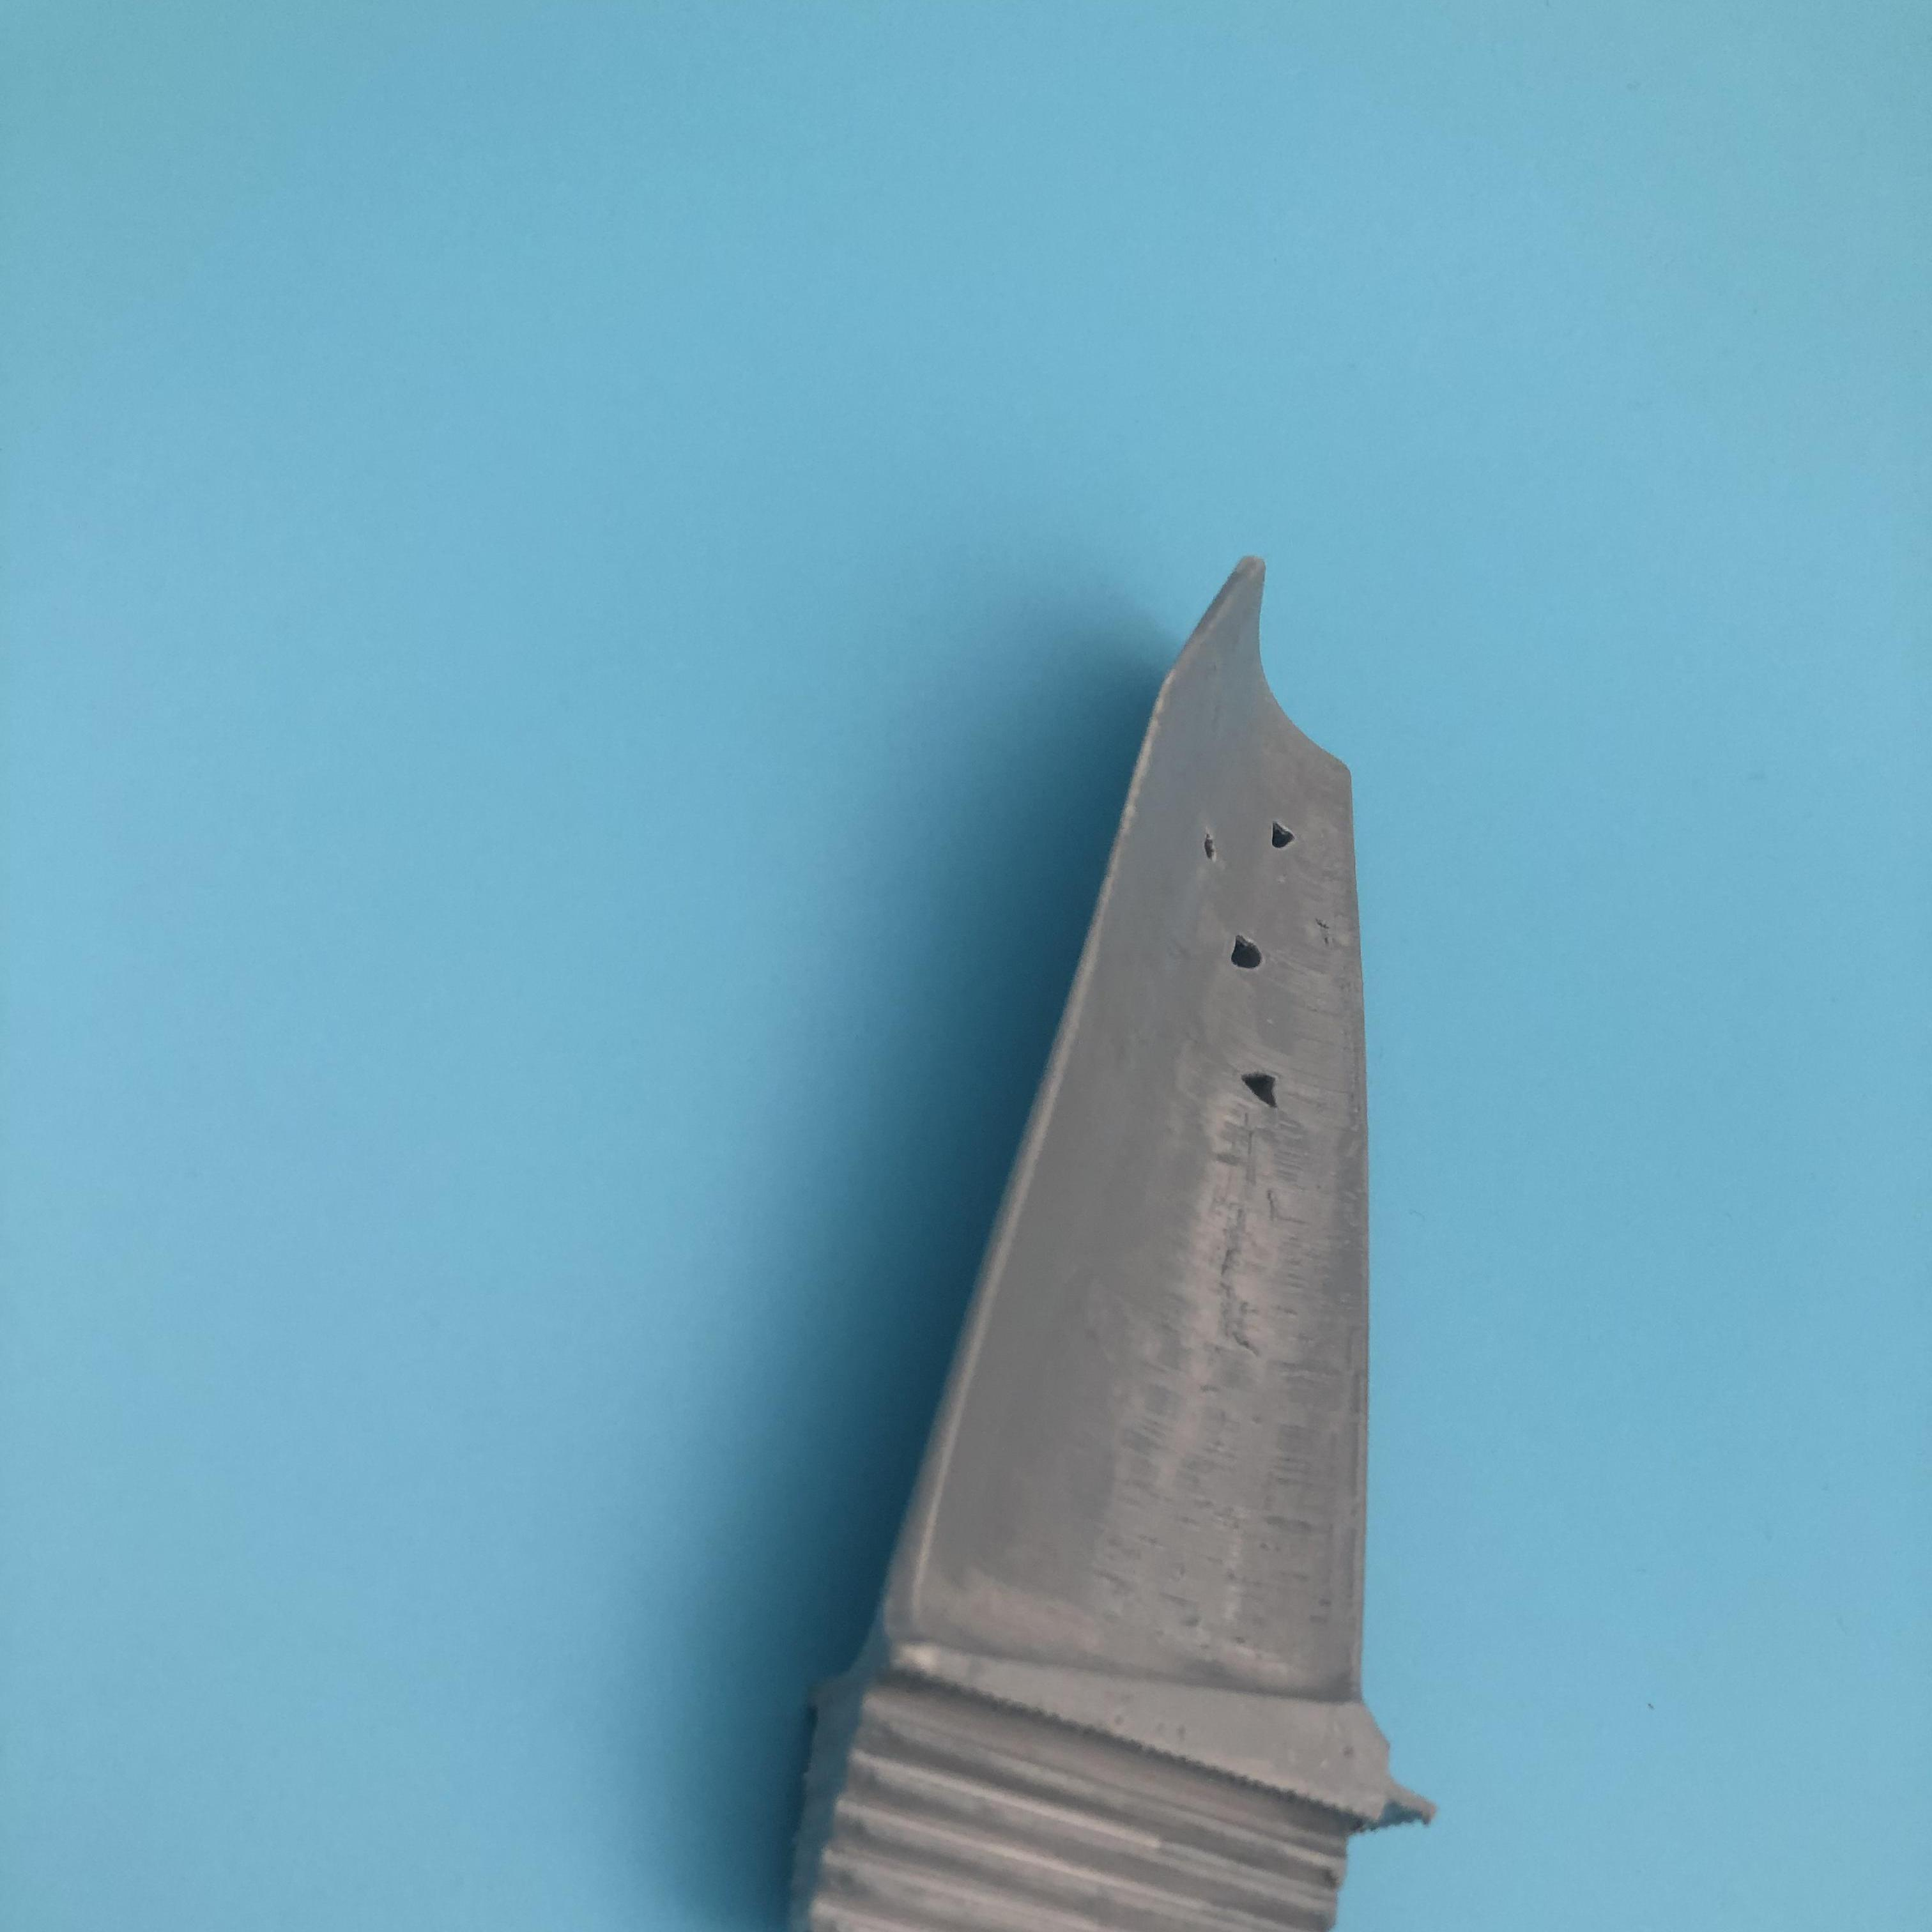breakdown: (1192, 812, 1327, 1115)
